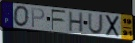F: (50, 9, 67, 31)
H: (68, 11, 85, 34)
O: (13, 5, 30, 28)
P: (31, 7, 46, 28)
U: (88, 13, 104, 36)
X: (105, 14, 121, 38)
